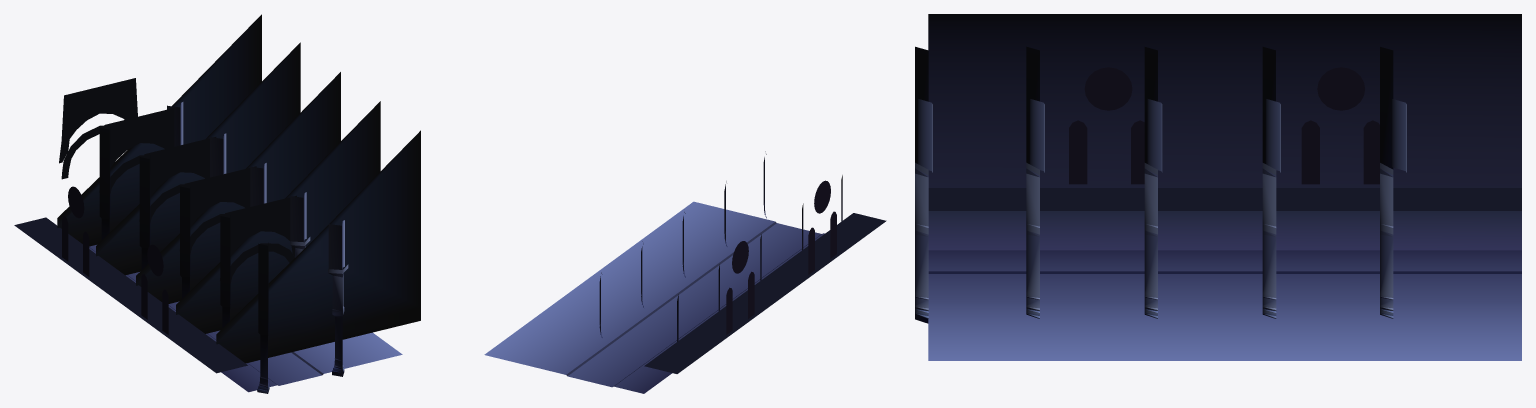
Rendered from NPBossLOD.gltf.
The picture shows the model from 3 angles, left to right: view 1: azimuth 30°, elevation 25°; view 2: azimuth 150°, elevation 25°; view 3: azimuth 270°, elevation 25°; orthographic projection. The views are drawn at different scales.
Parts seen in each view (by area): view 1: stg073_k2_Mesh_0000, stg073_low_o_Mesh_0005, stg073_low_o_Mesh_0001, stg073_low_o_Mesh_0003, stg073_low_o_Mesh_0004, stg073_low_p_Mesh_0000, stg073_low_o_Mesh_0008; view 2: stg073_low_o_Mesh_0001, stg073_low_p_Mesh_0000, stg073_low_o_Mesh_0008; view 3: stg073_low_o_Mesh_0009, stg073_low_o_Mesh_0001, stg073_low_o_Mesh_0003, stg073_low_p_Mesh_0000, stg073_low_o_Mesh_0008, stg073_low_o_Mesh_0005, stg073_low_o_Mesh_0004, stg073_low_o_Mesh_0010.
Part boxes in pixels (box(x1,y1,x2,y2)): stg073_k2_Mesh_0000: box(57, 14, 420, 363); stg073_low_o_Mesh_0005: box(61, 78, 343, 360); stg073_low_o_Mesh_0001: box(14, 217, 402, 392); stg073_low_o_Mesh_0003: box(99, 102, 344, 336); stg073_low_o_Mesh_0004: box(59, 119, 344, 390); stg073_low_p_Mesh_0000: box(62, 186, 168, 334); stg073_low_o_Mesh_0008: box(101, 219, 342, 378); stg073_low_o_Mesh_0001: box(484, 201, 886, 393); stg073_low_p_Mesh_0000: box(726, 180, 836, 334); stg073_low_o_Mesh_0008: box(599, 159, 842, 341); stg073_low_o_Mesh_0009: box(928, 14, 1521, 250); stg073_low_o_Mesh_0001: box(928, 188, 1521, 360); stg073_low_o_Mesh_0003: box(915, 46, 1406, 172); stg073_low_p_Mesh_0000: box(1069, 67, 1379, 184); stg073_low_o_Mesh_0008: box(915, 234, 1393, 295); stg073_low_o_Mesh_0005: box(915, 173, 1393, 297); stg073_low_o_Mesh_0004: box(915, 222, 1393, 318); stg073_low_o_Mesh_0010: box(915, 297, 1393, 308).
Size of the model in its own units: 58.82 by 46.65 by 89.98.
